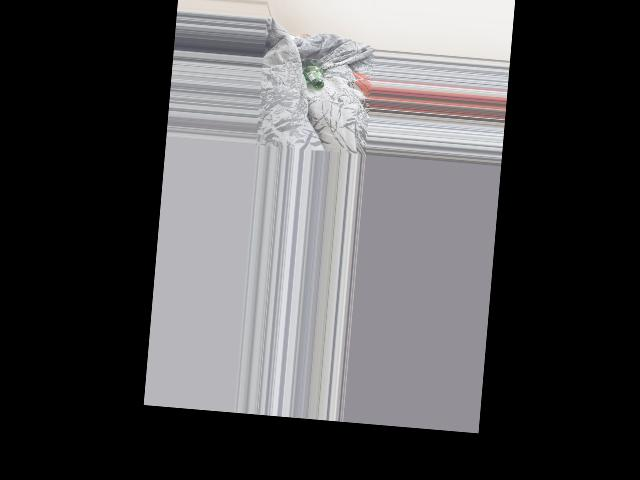beer: (301, 60, 325, 89)
